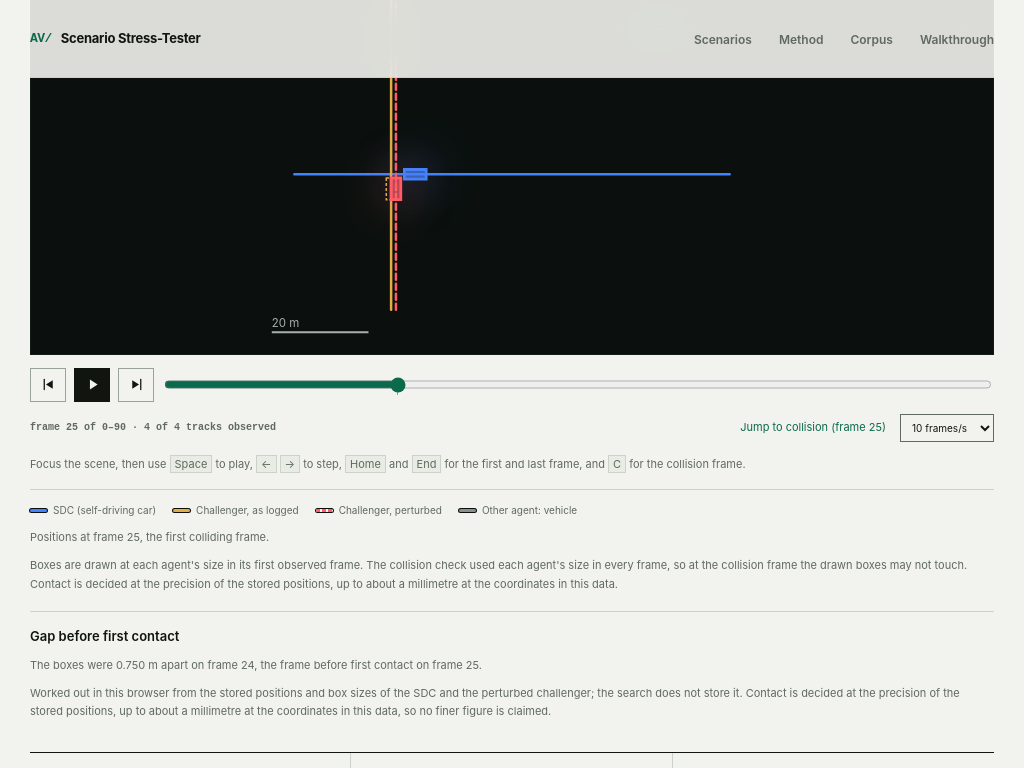
Scenario: playback — scrubbing and stepping › drops the opening note once the viewer has moved the playhead
(page scrolled)
Expected: the text "frame 25 of 0–90 · 4 of 4 tracks observed" is shown, [30,420,276,435]
Click the button named "Step forward one frame" at (136, 385), box [118,368,154,402]
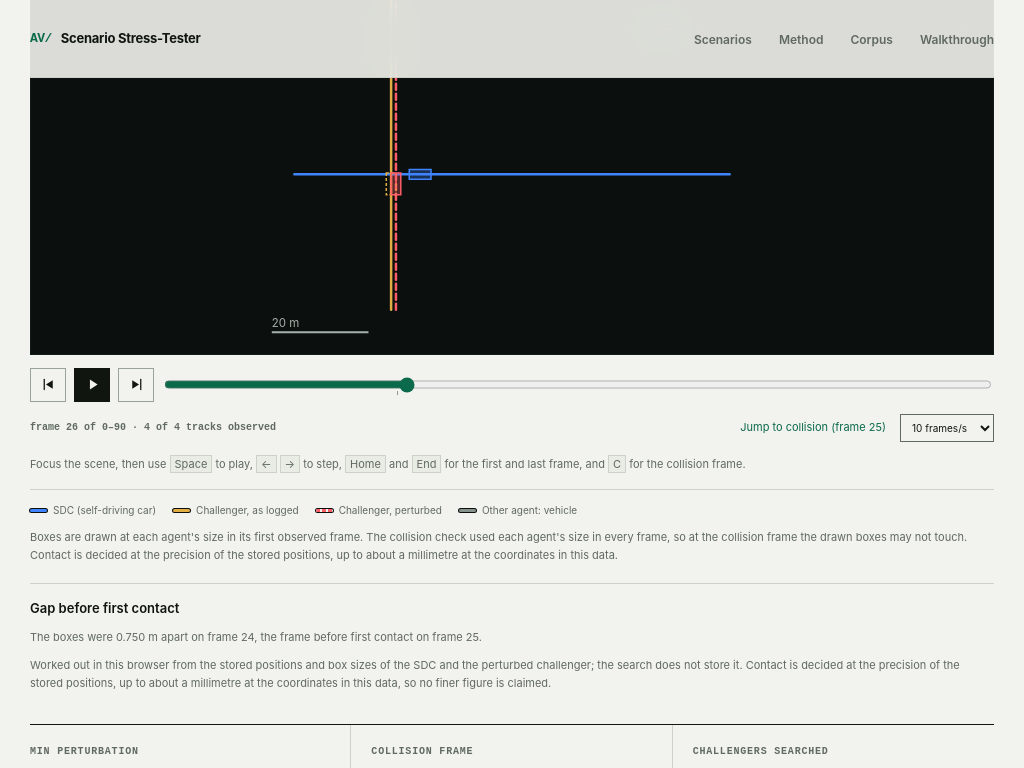
Expected: the text "the first colliding frame" is gone
